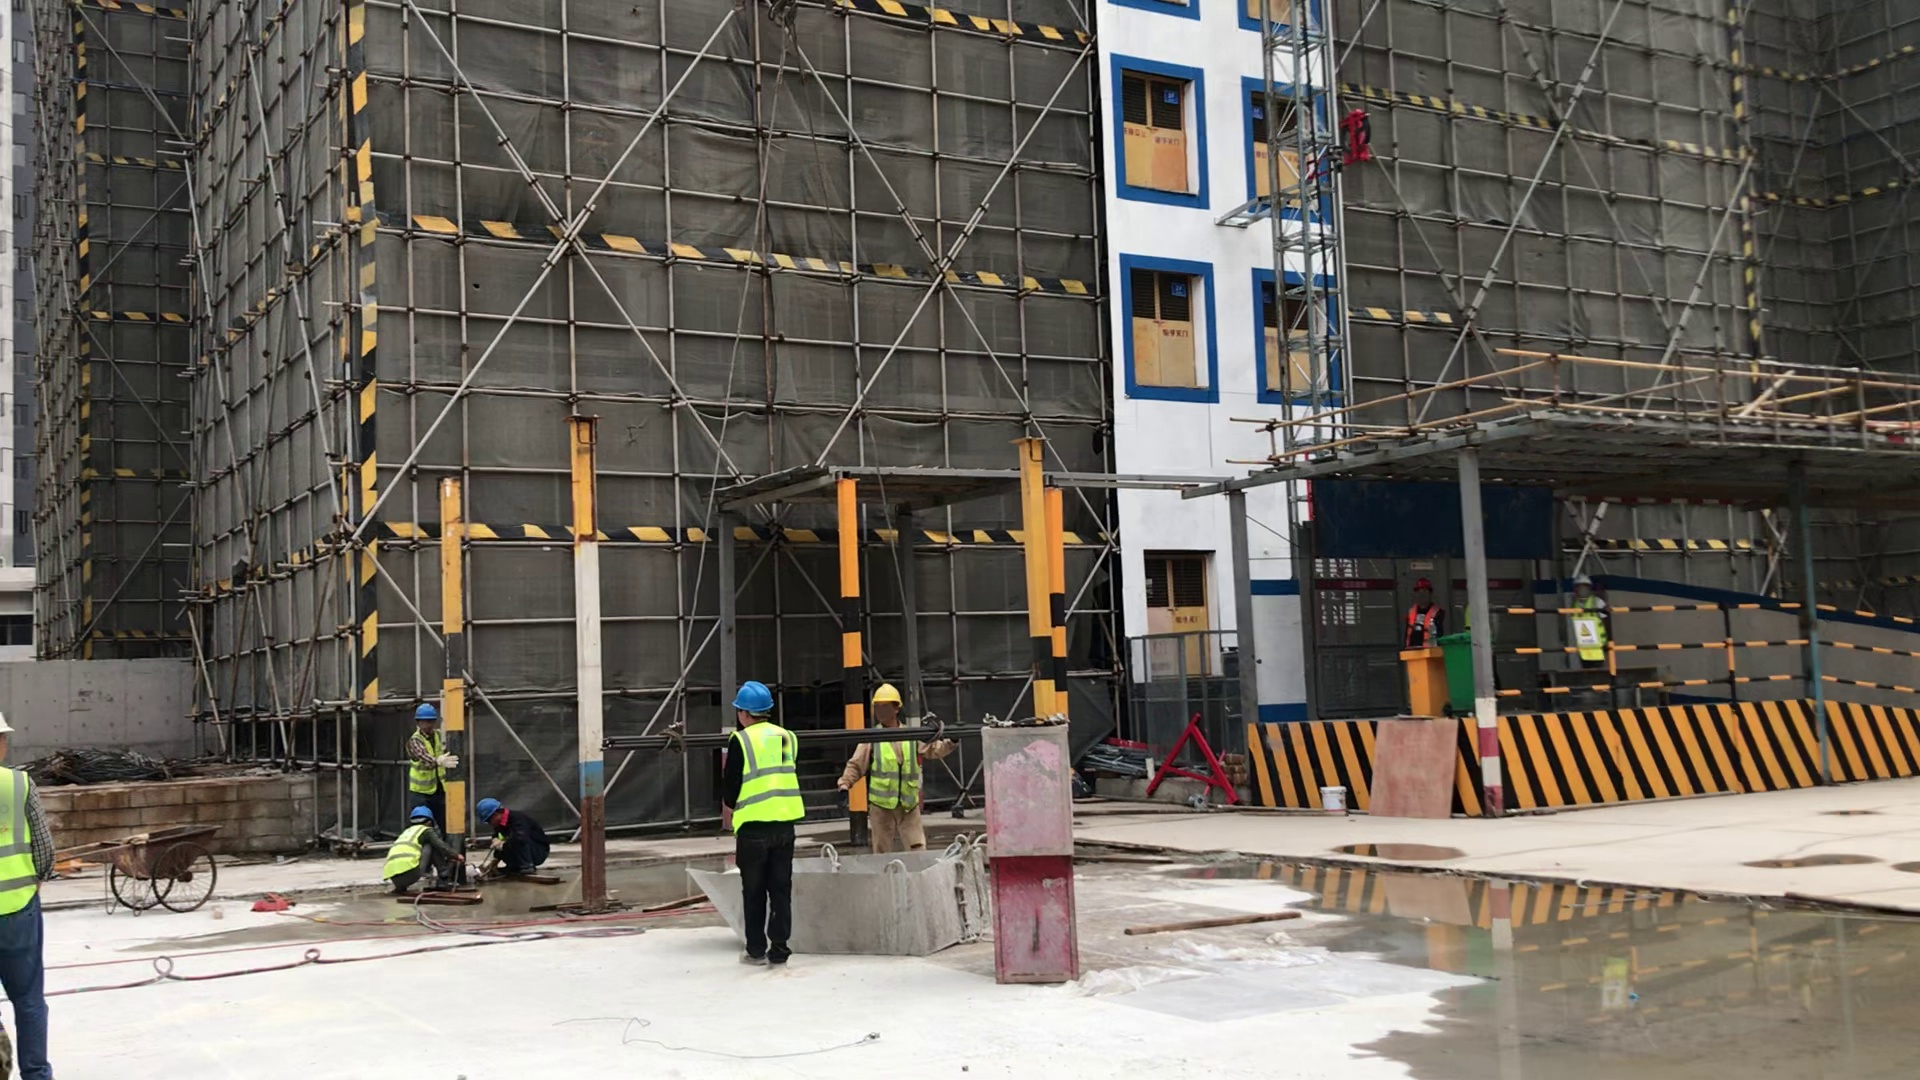helmet: (731, 676, 777, 715), (867, 679, 912, 716), (467, 789, 508, 827), (402, 800, 440, 826), (409, 697, 443, 724), (1566, 569, 1598, 586), (1412, 576, 1438, 591)
person: (716, 650, 821, 979), (2, 685, 84, 1080), (846, 662, 952, 865), (371, 791, 462, 926), (466, 783, 561, 910), (401, 685, 461, 807), (1571, 560, 1619, 703), (1397, 562, 1448, 674)
vest: (717, 722, 816, 842), (2, 755, 62, 935), (860, 723, 952, 819), (398, 726, 455, 796), (370, 818, 424, 888), (1567, 597, 1612, 657), (1401, 604, 1440, 649)
